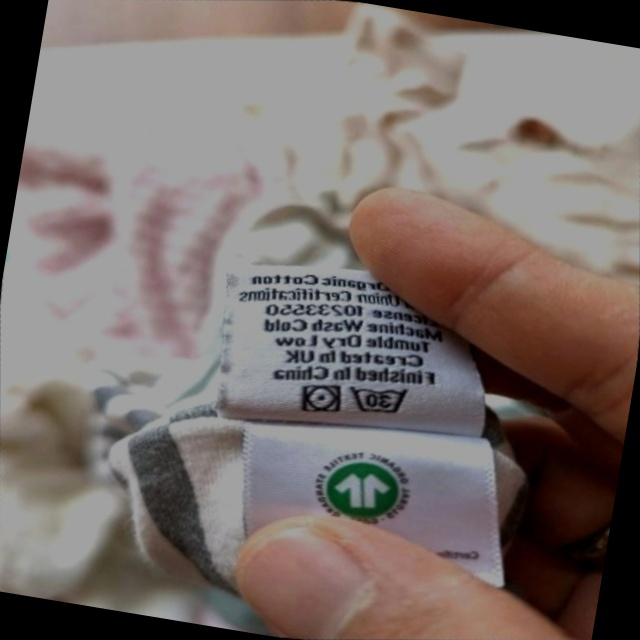30C: (340, 369, 420, 430)
tumble_dry_low: (291, 372, 350, 426)
